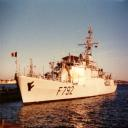Fragata: (14, 25, 119, 107)
